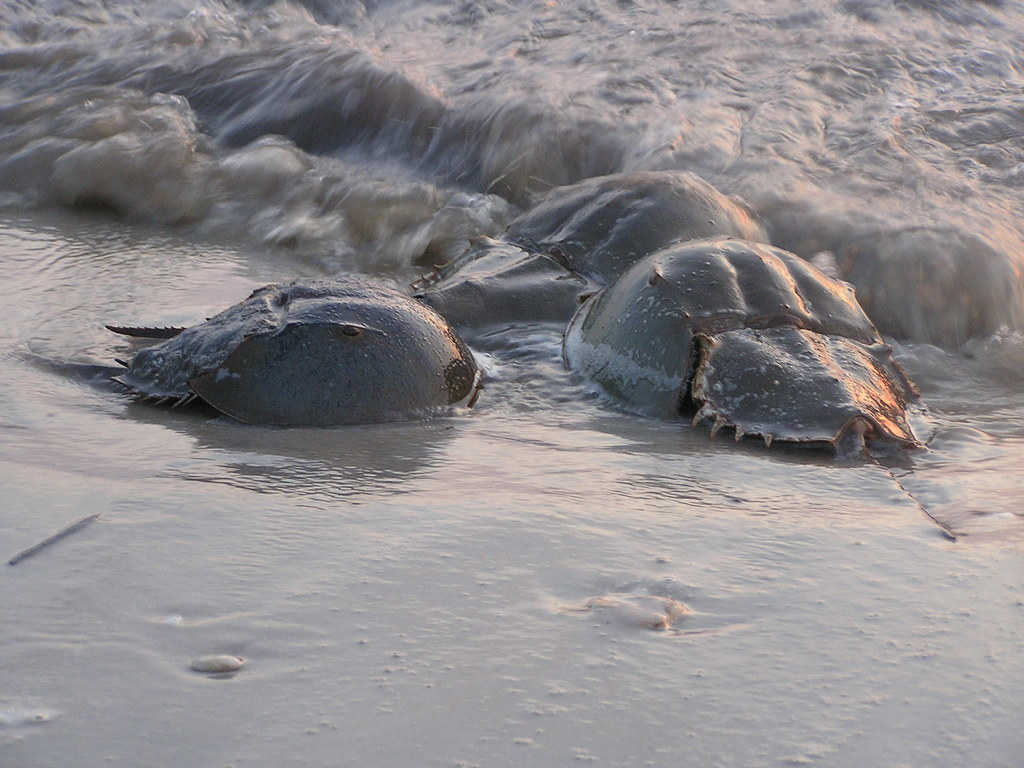Sea turtles: (572, 229, 926, 458), (403, 167, 776, 336), (109, 271, 490, 431)
